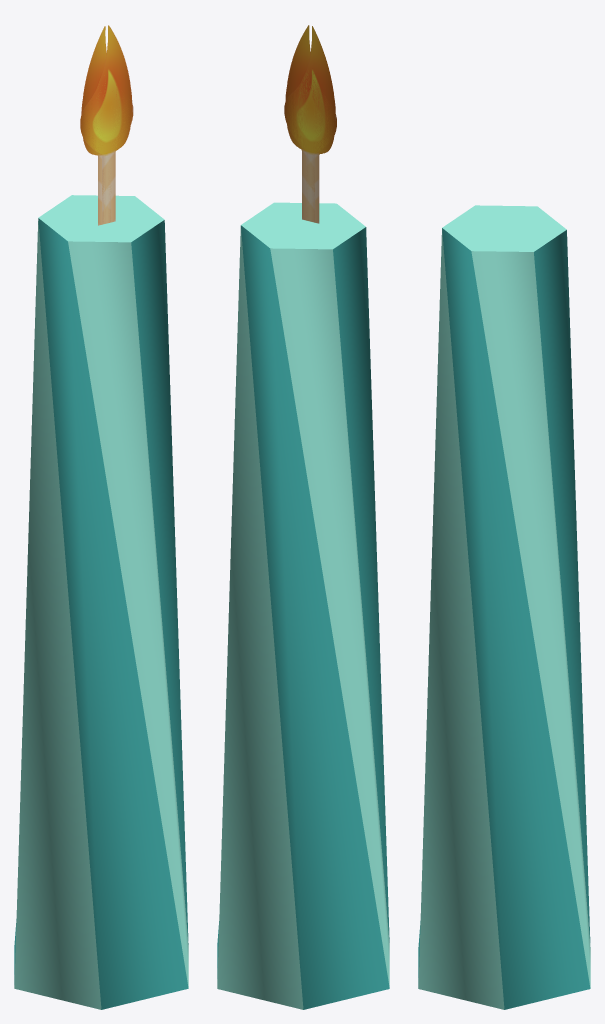
File: Candle_B_03.FBX
3 renders of one model, left to right at view 1: azimuth 30°, elevation 25°; view 2: azimuth 150°, elevation 25°; view 3: azimuth 270°, elevation 25°, orthographic.
Visible parts, largest first — view 1: Candle; view 2: Candle; view 3: Candle.
Boxes of the visible parts, x1,y1,x2,y2 form: Candle: (14,25,188,1009); Candle: (217,25,389,1009); Candle: (418,205,590,1009).
Bounding box in the file's own units: 7.85 × 40.96 × 6.8.
